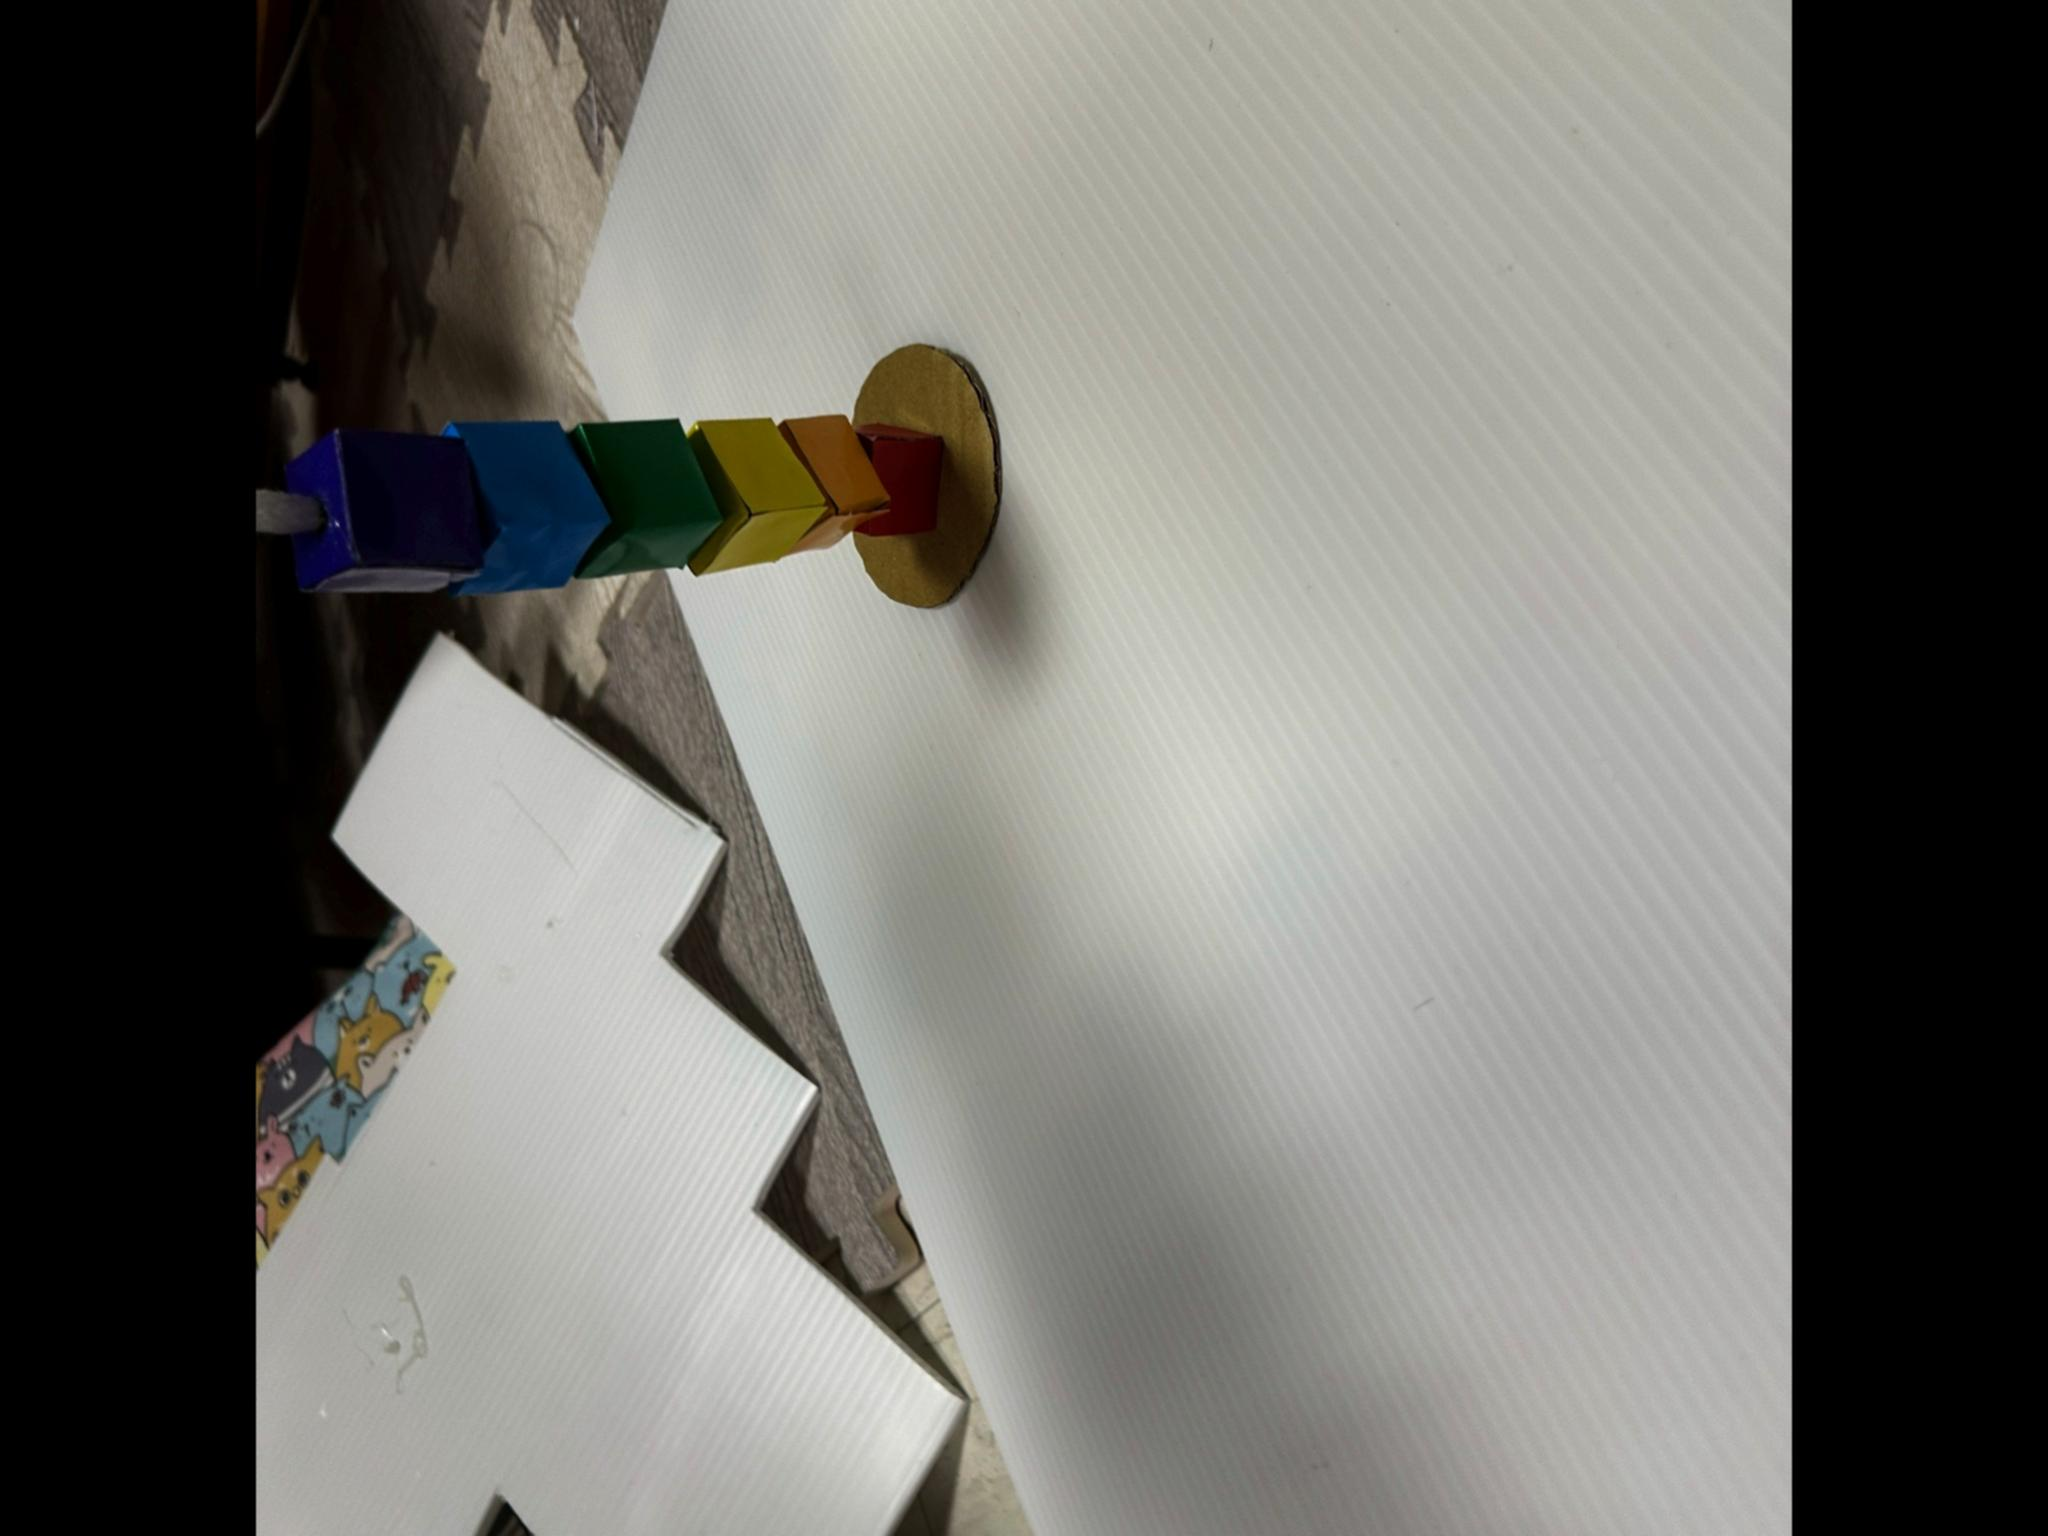base: (853, 344, 1001, 608)
cube: (285, 429, 485, 591), (443, 421, 610, 594), (569, 419, 724, 578), (685, 418, 830, 573), (780, 416, 889, 550), (856, 424, 943, 536)
